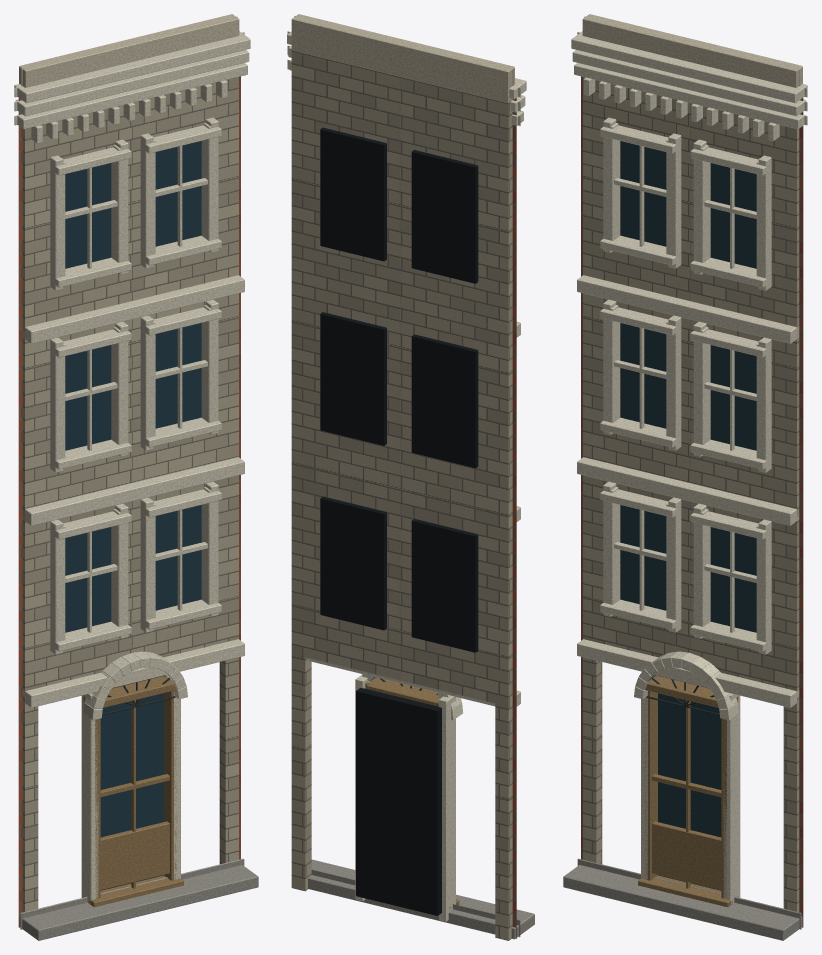
The model's file is OFFC17_lod1.glb.
The picture shows the model from 3 angles, left to right: view 1: azimuth 30°, elevation 25°; view 2: azimuth 150°, elevation 25°; view 3: azimuth 330°, elevation 25°; orthographic projection.
Visible parts, largest first — view 1: OFFC17_FRONT_LOD1; view 2: OFFC17_FRONT_LOD1; view 3: OFFC17_FRONT_LOD1.
Part boxes in pixels (x1=…): OFFC17_FRONT_LOD1: x1=14, y1=14, x2=258, y2=940; OFFC17_FRONT_LOD1: x1=287, y1=14, x2=534, y2=940; OFFC17_FRONT_LOD1: x1=563, y1=14, x2=807, y2=940.
Bounding box in the file's own units: 3.44 × 12.26 × 0.68.
10 materials, 8 textured.
